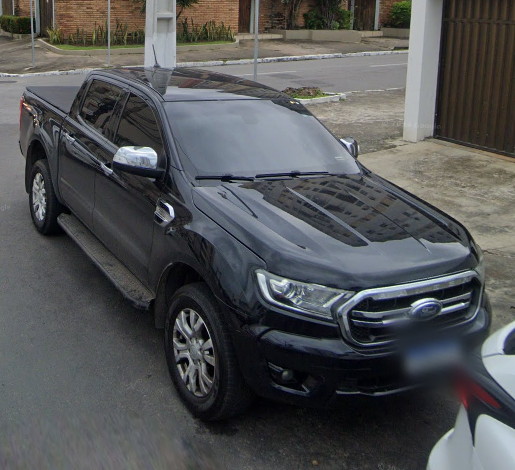car: (17, 60, 495, 443)
